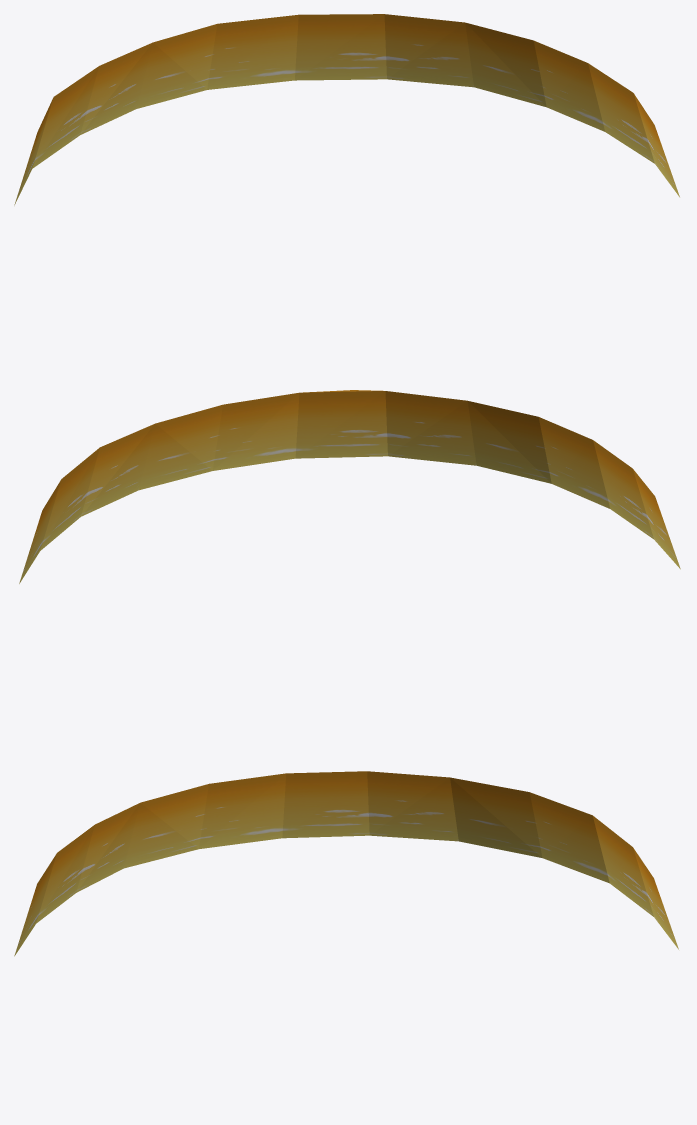
The model's file is vrcorn.glb.
The picture shows the model from 3 angles, top to bottom: view 1: azimuth 30°, elevation 25°; view 2: azimuth 150°, elevation 25°; view 3: azimuth 270°, elevation 25°; orthographic projection.
Visible parts, largest first — view 1: polygon0; view 2: polygon0; view 3: polygon0.
Part boxes in pixels (x1,y1,x2,y2): polygon0: (14,14,679,205); polygon0: (19,390,680,583); polygon0: (14,771,678,956).
Bounding box in the file's own units: 1978 × 674 × 2033.
Materials: 1 (1 with a texture image).
